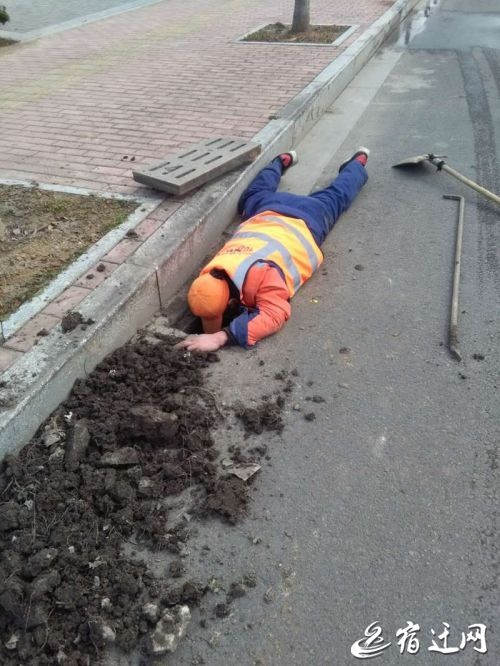falling: (164, 135, 386, 366)
